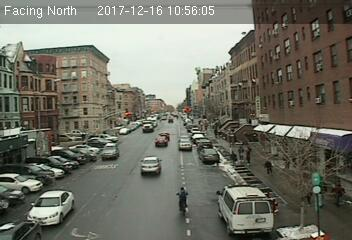bicycle: (175, 185, 190, 218)
car: (26, 187, 75, 229), (139, 155, 161, 173), (200, 148, 219, 163), (101, 143, 118, 159), (154, 135, 167, 146), (179, 138, 191, 149)
pedestrian: (332, 182, 346, 209), (263, 159, 274, 176), (237, 145, 246, 163), (244, 147, 252, 165)
police: (212, 180, 277, 237)
